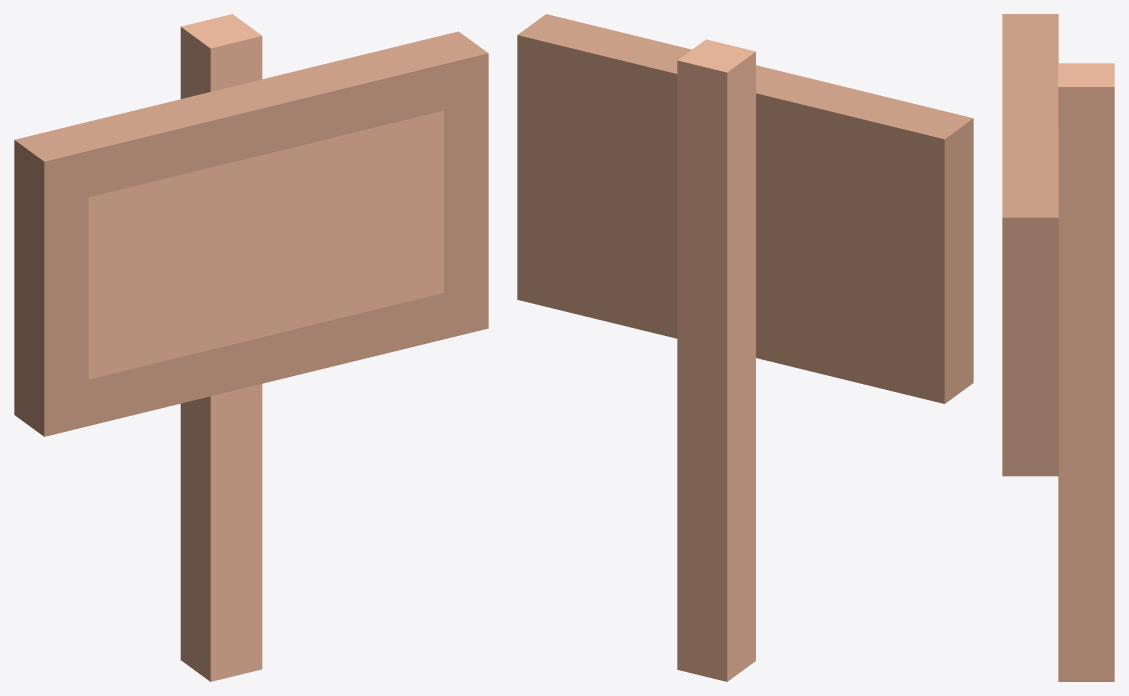
The model's file is sign.gltf.
3 views of the same model, side by side, from view 1: azimuth 30°, elevation 25°; view 2: azimuth 150°, elevation 25°; view 3: azimuth 270°, elevation 25° (orthographic). The views are drawn at different scales.
Parts seen in each view (by area): view 1: sign; view 2: sign; view 3: sign.
Part boxes in pixels (bbox=[...]): sign: bbox=[14, 14, 488, 681]; sign: bbox=[517, 14, 973, 681]; sign: bbox=[1002, 14, 1114, 681].
Bounding box in the file's own units: 0.3 × 0.4088 × 0.07.
